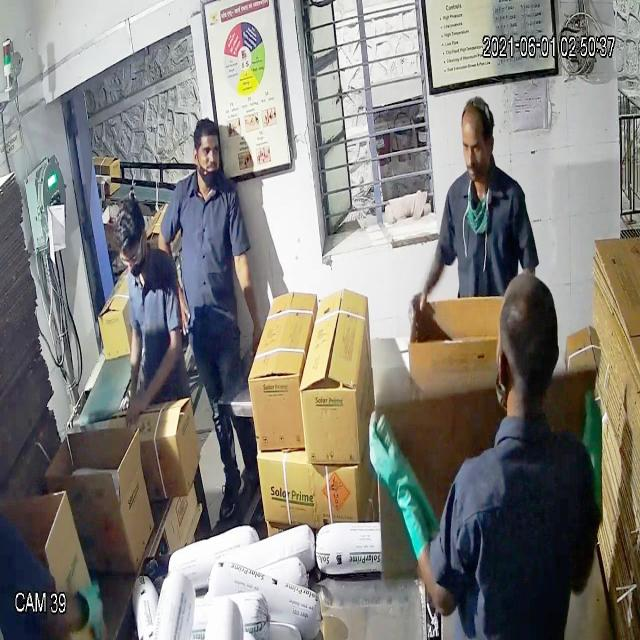glasses: (111, 235, 151, 270)
no-glass: (458, 129, 500, 161)
